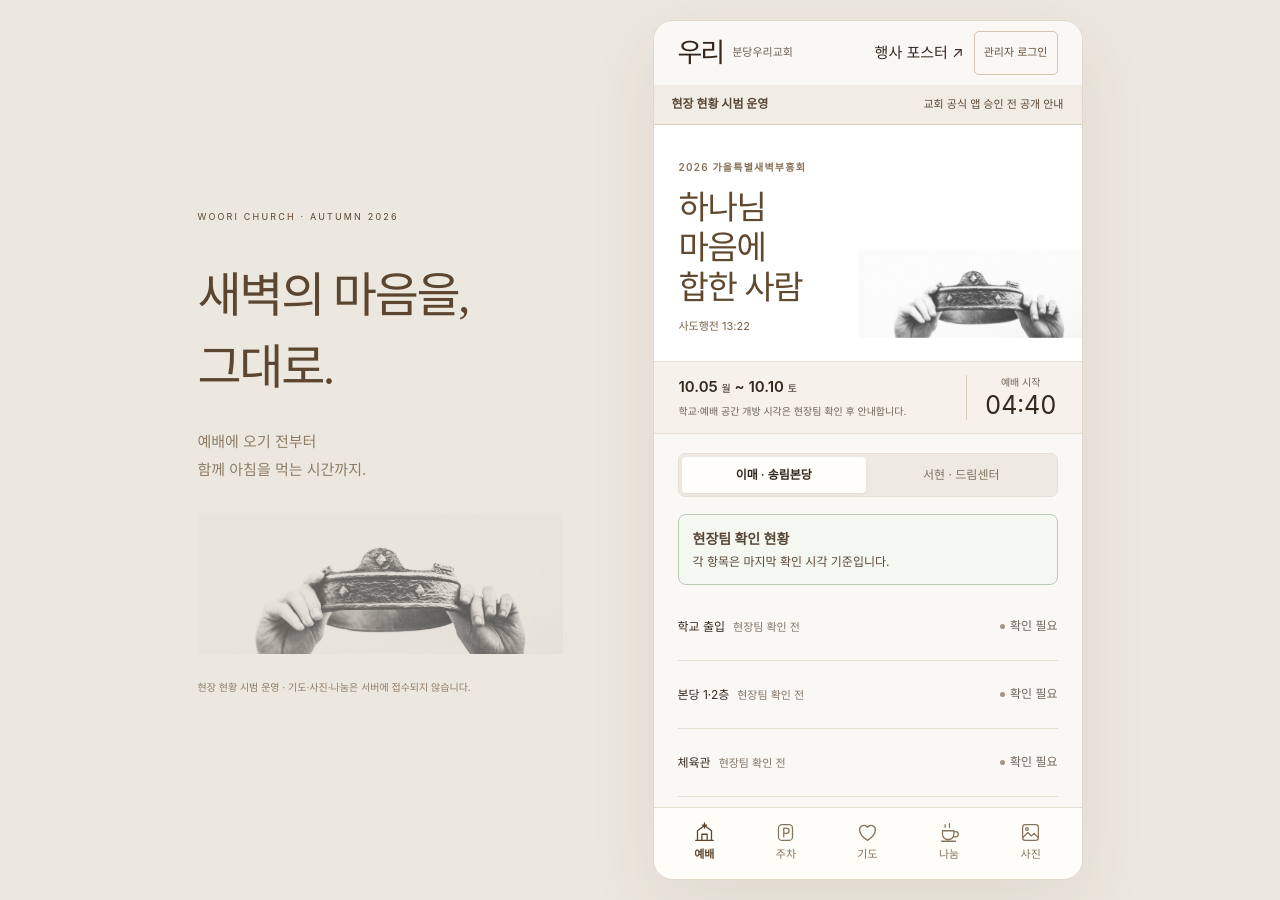
Test: public companion live operations › fails closed when a staff update is stale and shows independent Dream floors and parking levels
What coordinates should you click on to do the following:
click the button "서현 · 드림센터"
I would click on:
 (961, 475)
Its box is [869, 457, 1054, 493].
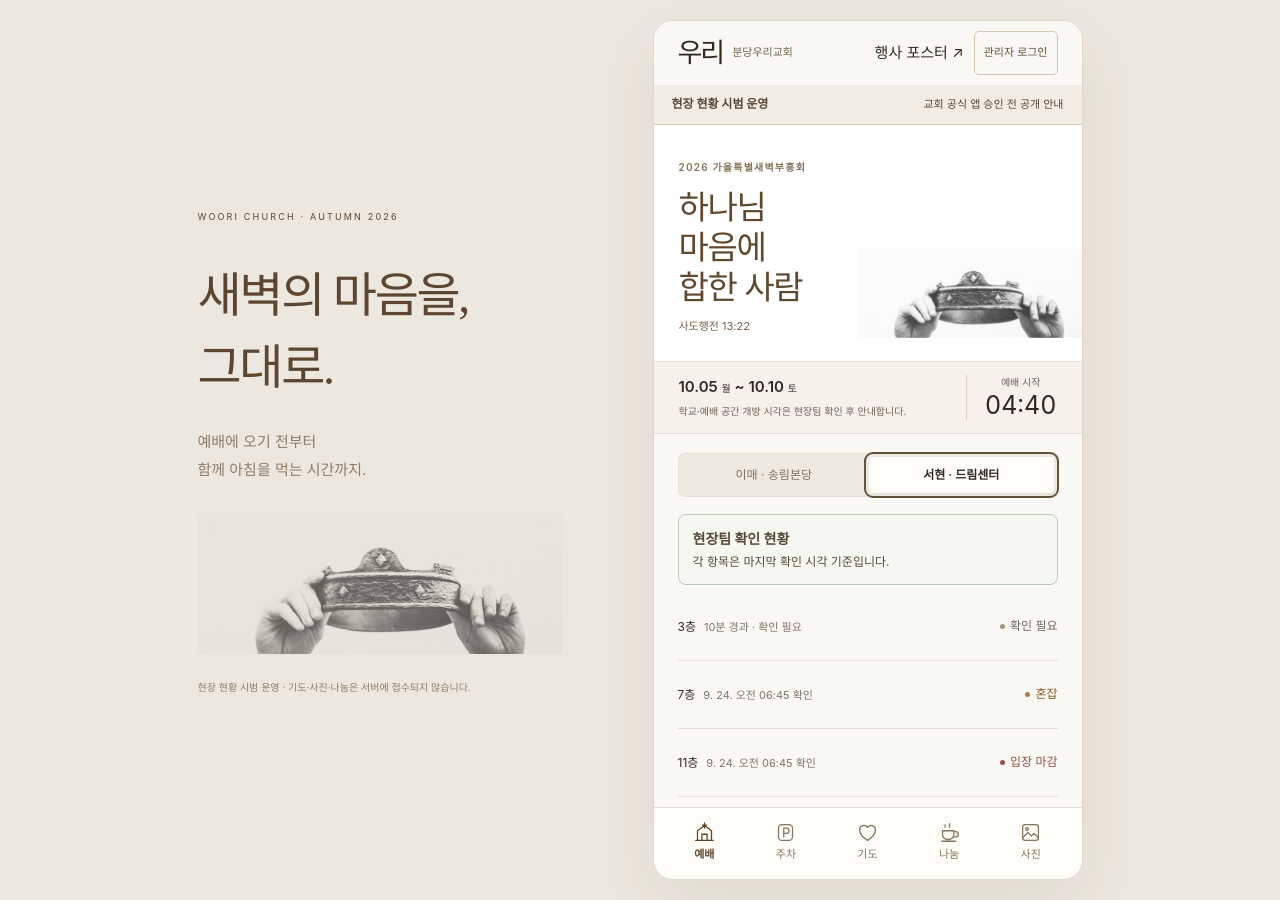
Expected: the text "확인 필요" is shown, [1000, 617, 1058, 636]
Result: the text "10분 경과 · 확인 필요" is shown at [704, 620, 802, 636]
Result: the text "혼잡" is shown at [1025, 685, 1058, 704]
What coordinates should you click on to do the following:
click the tab "주차"
I would click on:
 (786, 842)
Its box is [745, 816, 827, 869].
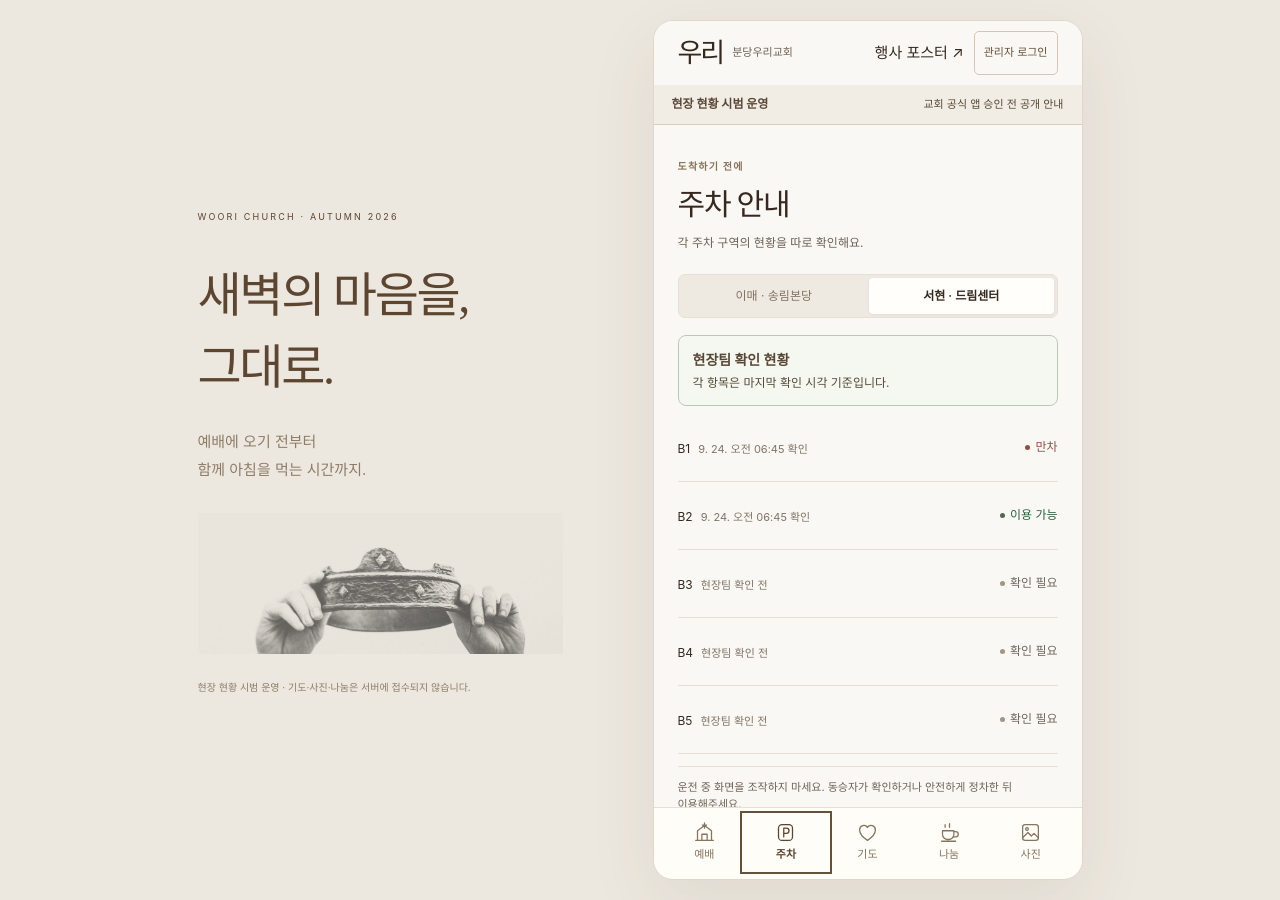
Result: the text "B1" is shown at [678, 441, 690, 456]
Result: the text "B5" is shown at [678, 713, 692, 728]
Result: the text "만차" is shown at [1025, 438, 1058, 457]
